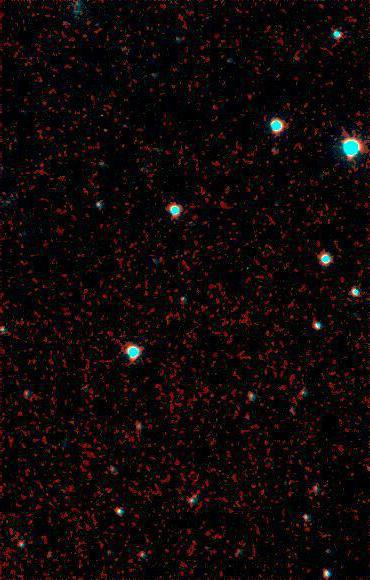star: (53, 409, 83, 439)
